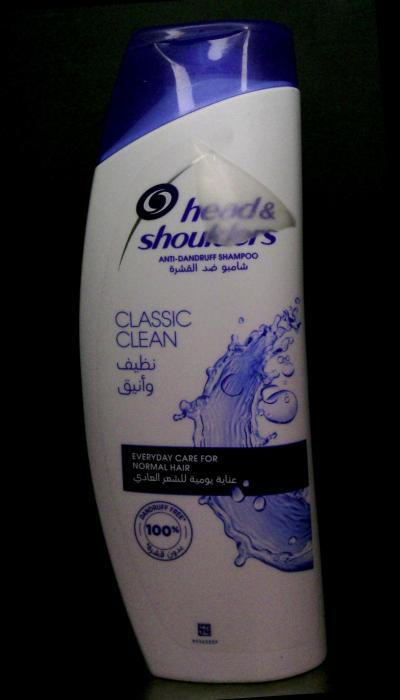adhesion_unacc: (192, 143, 296, 251)
